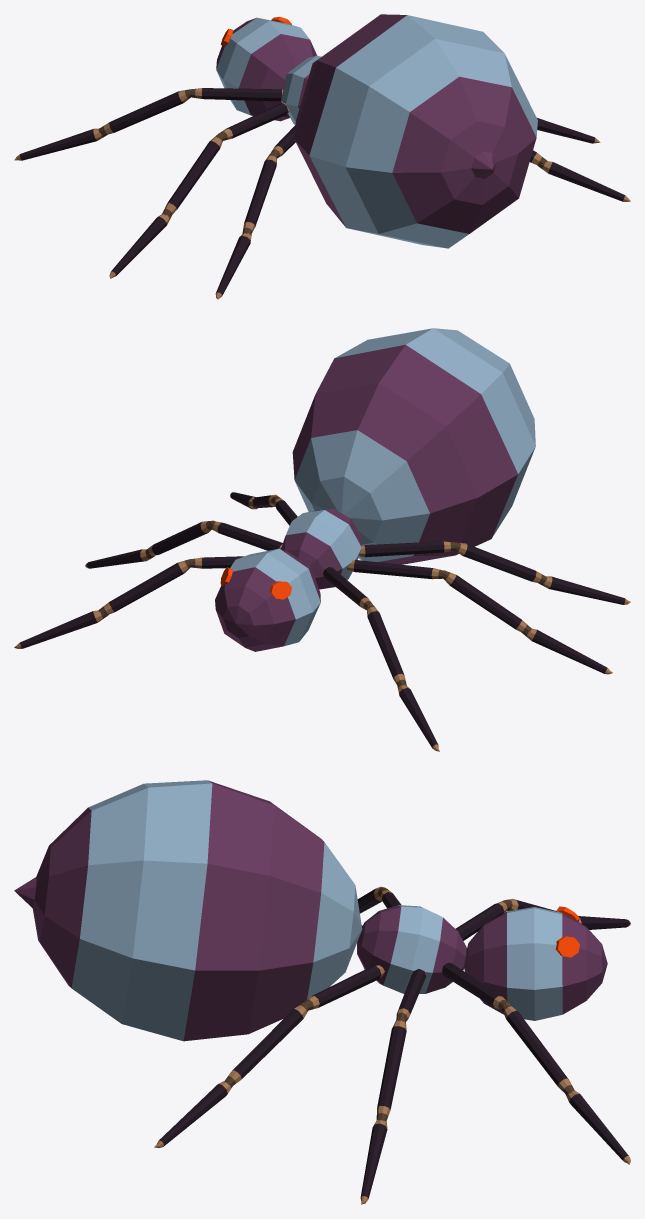
The model's file is ant1.1.fbx.
3 views of the same model, one above another, from view 1: azimuth 30°, elevation 25°; view 2: azimuth 150°, elevation 25°; view 3: azimuth 270°, elevation 25° (orthographic). The views are drawn at different scales.
Parts seen in each view (by area): view 1: Sphere, Sphere.002, Cylinder.011, Cylinder.014, Sphere.001, Cylinder.010, Cylinder.017, Cylinder.003, Cylinder.012, Cylinder.013, Cylinder.015, Cylinder.018 (+1 smaller); view 2: Sphere, Sphere.002, Sphere.001, Cylinder.014, Cylinder.008, Cylinder.017, Cylinder.016, Cylinder.013, Cylinder.011, Cylinder.009, Cylinder.015, Cylinder.018 (+5 smaller); view 3: Sphere, Sphere.002, Sphere.001, Cylinder.006, Cylinder.008, Cylinder.002, Cylinder, Cylinder.003, Cylinder.005, Cylinder.009, Cylinder.007, Cylinder.010 (+1 smaller).
Boxes of the visible parts, left/top/right/bottom form: Sphere: left=294, top=14, right=537, bottom=248; Sphere.002: left=216, top=17, right=316, bottom=121; Cylinder.011: left=98, top=89, right=191, bottom=134; Cylinder.014: left=162, top=132, right=222, bottom=216; Sphere.001: left=281, top=55, right=321, bottom=124; Cylinder.010: left=188, top=88, right=282, bottom=101; Cylinder.017: left=242, top=151, right=276, bottom=233; Cylinder.003: left=537, top=161, right=630, bottom=201; Cylinder.012: left=14, top=128, right=107, bottom=160; Cylinder.013: left=219, top=103, right=289, bottom=140; Cylinder.015: left=109, top=214, right=171, bottom=278; Cylinder.018: left=215, top=233, right=251, bottom=299; Sphere: left=292, top=328, right=535, bottom=564; Sphere.002: left=215, top=548, right=320, bottom=651; Sphere.001: left=281, top=508, right=361, bottom=589; Cylinder.014: left=442, top=570, right=531, bottom=633; Cylinder.008: left=98, top=559, right=191, bottom=614; Cylinder.017: left=454, top=542, right=546, bottom=583; Cylinder.016: left=359, top=541, right=457, bottom=557; Cylinder.013: left=347, top=560, right=445, bottom=579; Cylinder.011: left=366, top=602, right=406, bottom=686; Cylinder.009: left=14, top=610, right=108, bottom=648; Cylinder.015: left=521, top=628, right=612, bottom=674; Cylinder.018: left=538, top=576, right=630, bottom=604; Sphere: left=14, top=780, right=362, bottom=1041; Sphere.002: left=464, top=907, right=607, bottom=1020; Sphere.001: left=357, top=905, right=466, bottom=993; Cylinder.006: left=376, top=1015, right=406, bottom=1121; Cylinder.008: left=501, top=1002, right=574, bottom=1094; Cylinder.002: left=224, top=1002, right=309, bottom=1086; Cylinder: left=302, top=965, right=384, bottom=1010; Cylinder.003: left=154, top=1081, right=232, bottom=1147; Cylinder.005: left=442, top=962, right=509, bottom=1010; Cylinder.009: left=565, top=1090, right=630, bottom=1164; Cylinder.007: left=360, top=1119, right=387, bottom=1204; Cylinder.010: left=455, top=900, right=510, bottom=940.
Size of the model in its own units: 255 by 114 by 230.
Materials: 4 (4 with a texture image).
